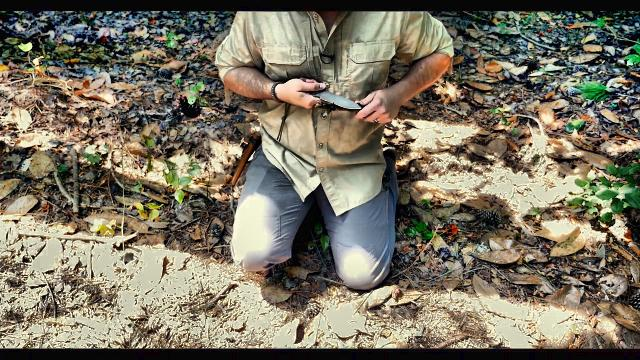knife: (289, 74, 367, 114)
